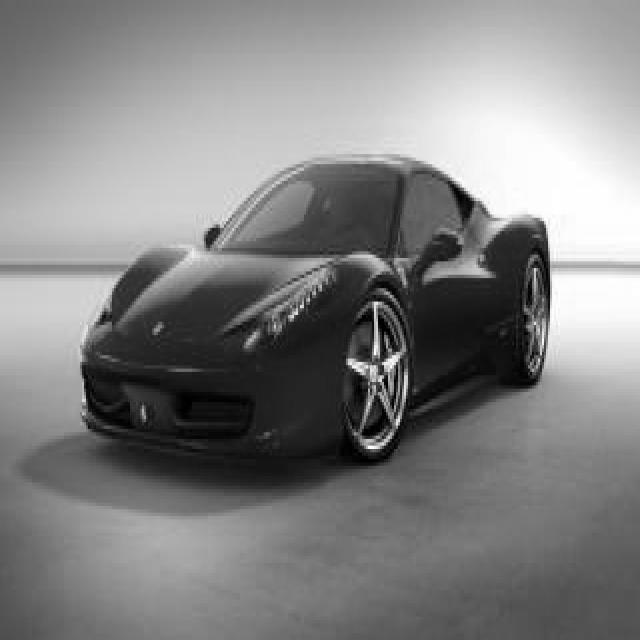Car: (80, 159, 550, 460)
